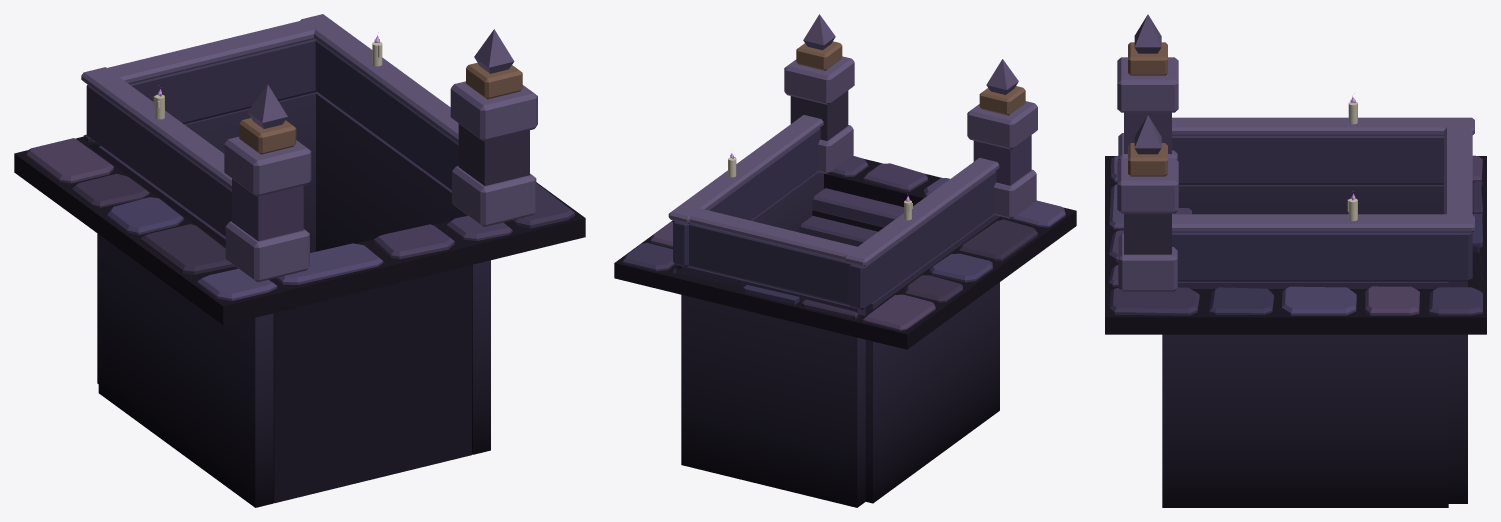
File: stairs_down.fbx
3 renders of one model, left to right at view 1: azimuth 30°, elevation 25°; view 2: azimuth 150°, elevation 25°; view 3: azimuth 270°, elevation 25°, orthographic. The views are drawn at different scales.
Visible parts, largest first — view 1: stairs_down; view 2: stairs_down; view 3: stairs_down.
Part boxes in pixels (x1,y1,x2,y2): stairs_down: (14, 14, 585, 507); stairs_down: (614, 14, 1076, 507); stairs_down: (1105, 14, 1486, 507).
Bounding box in the file's own units: 4 × 4.52 × 4.
